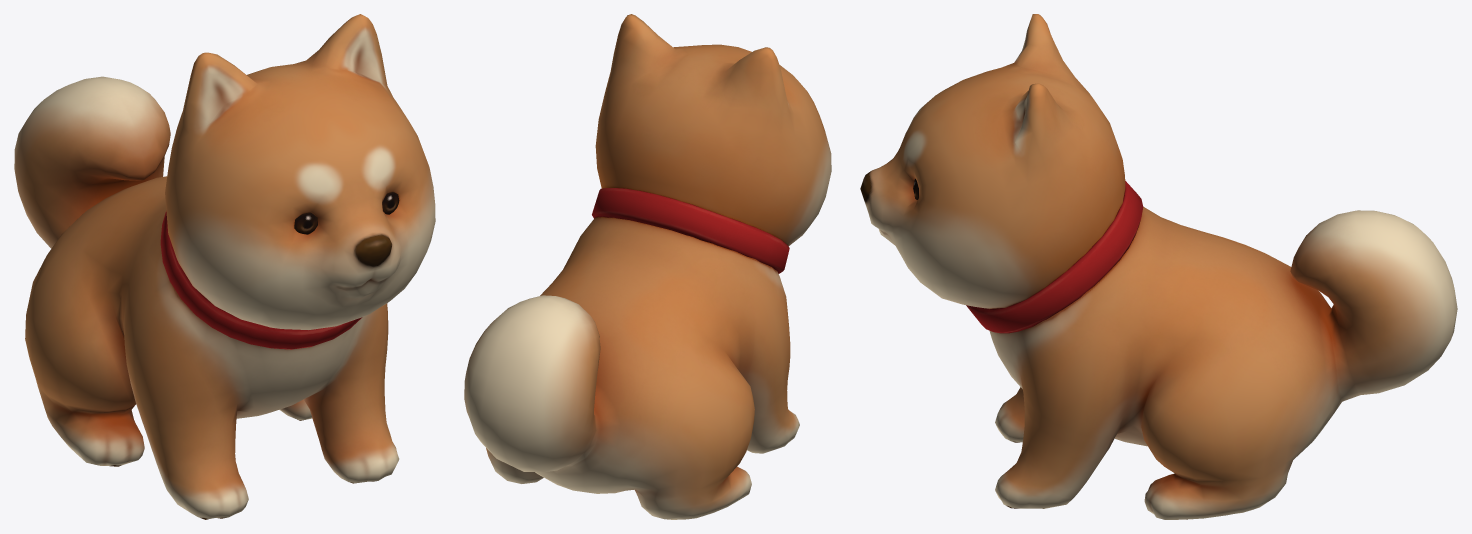
Rendered from shiba.gltf.
3 views of the same model, side by side, from view 1: azimuth 30°, elevation 25°; view 2: azimuth 150°, elevation 25°; view 3: azimuth 270°, elevation 25° (orthographic). The views are drawn at different scales.
Parts seen in each view (by area): view 1: Box002, Group18985, Object001; view 2: Box002, Group18985; view 3: Box002, Group18985.
Part boxes in pixels (x1,y1,x2,y2): Box002: (14,14,435,519); Group18985: (160,211,362,349); Object001: (294,192,399,234); Box002: (464,14,831,519); Group18985: (592,188,789,273); Box002: (860,14,1457,519); Group18985: (966,181,1143,333).
Size of the model in its own units: 0.9209 by 1.38 by 1.77.
1 material, 1 textured.
